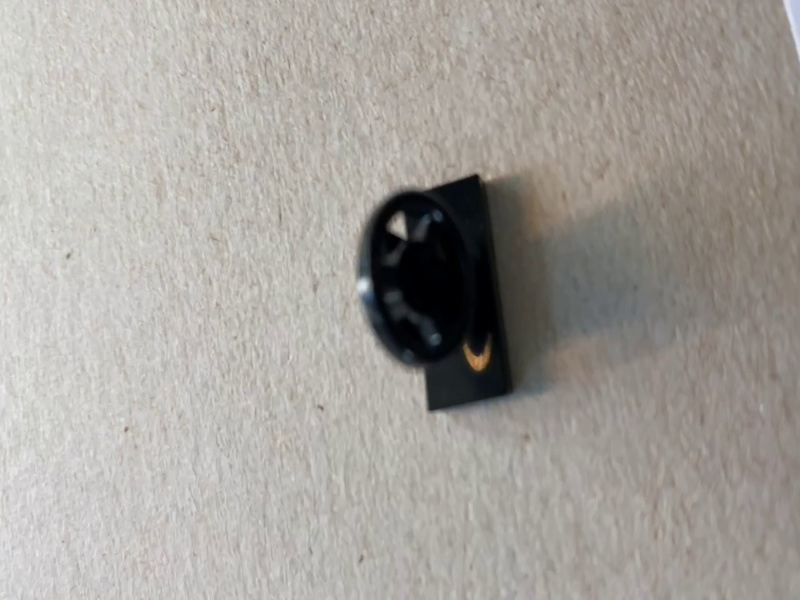steering wheel: (356, 175, 516, 413)
